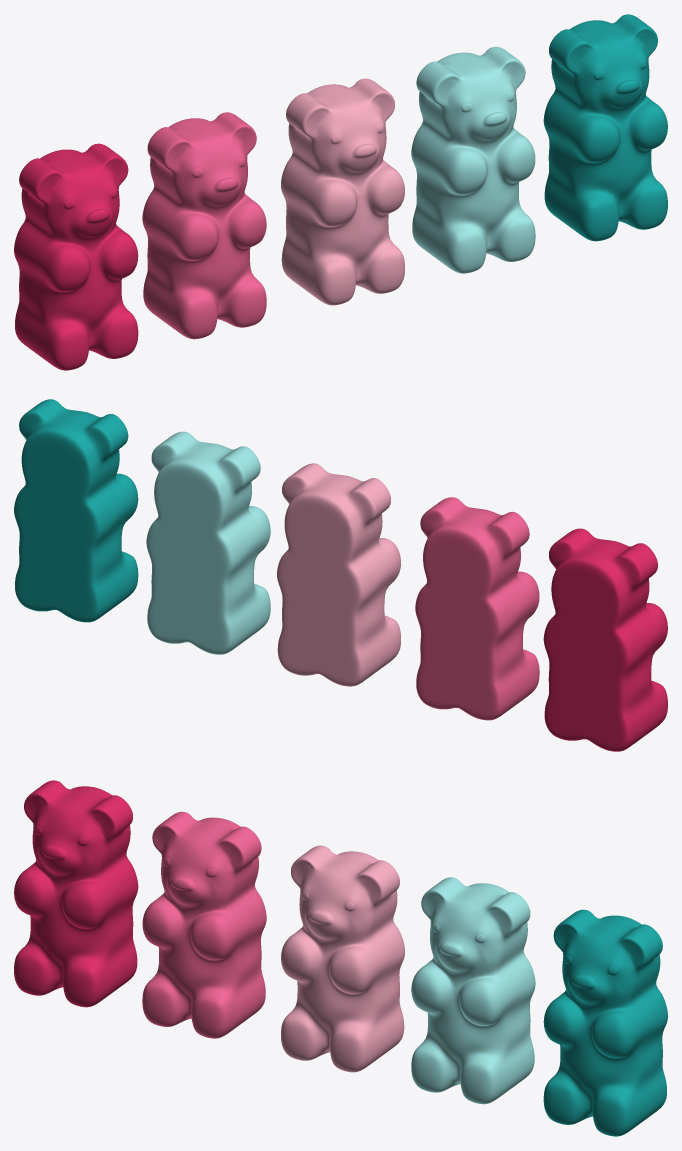
The model's file is Colorful Bears.glb.
3 views of the same model, one above another, from view 1: azimuth 30°, elevation 25°; view 2: azimuth 150°, elevation 25°; view 3: azimuth 330°, elevation 25° (orthographic).
Parts seen in each view (by area): view 1: candy_bear.014, candy_bear.015, candy_bear.009, candy_bear, candy_bear.022; view 2: candy_bear, candy_bear.014, candy_bear.015, candy_bear.009, candy_bear.022; view 3: candy_bear, candy_bear.009, candy_bear.015, candy_bear.014, candy_bear.022.
Part boxes in pixels (left/top/right/bottom): candy_bear.014: left=142, top=112, right=266, bottom=339; candy_bear.015: left=14, top=143, right=138, bottom=370; candy_bear.009: left=543, top=14, right=667, bottom=241; candy_bear: left=411, top=46, right=535, bottom=273; candy_bear.022: left=281, top=78, right=404, bottom=305; candy_bear: left=146, top=431, right=270, bottom=654; candy_bear.014: left=415, top=497, right=539, bottom=720; candy_bear.015: left=543, top=528, right=667, bottom=751; candy_bear.009: left=14, top=399, right=138, bottom=622; candy_bear.022: left=277, top=463, right=400, bottom=686; candy_bear: left=411, top=877, right=535, bottom=1104; candy_bear.009: left=543, top=909, right=667, bottom=1136; candy_bear.015: left=14, top=780, right=138, bottom=1007; candy_bear.014: left=142, top=811, right=266, bottom=1038; candy_bear.022: left=281, top=845, right=404, bottom=1072.
Size of the model in its own units: 111 by 32.67 by 14.07.
